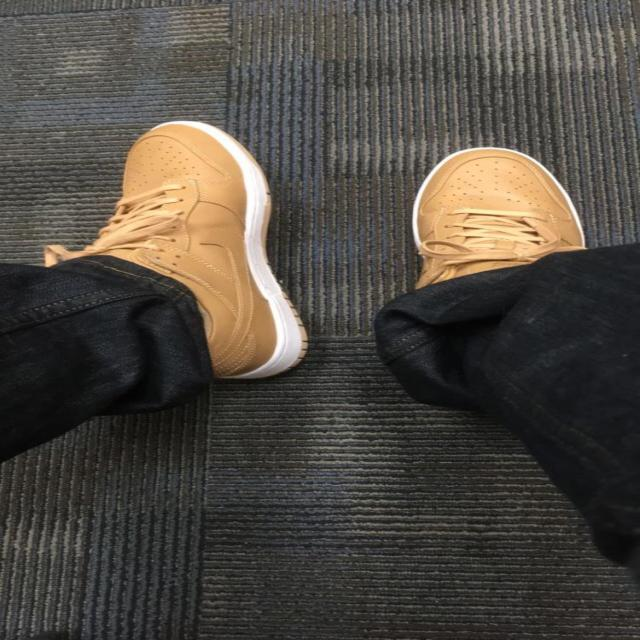shoe: (48, 110, 313, 384), (398, 133, 626, 413)
